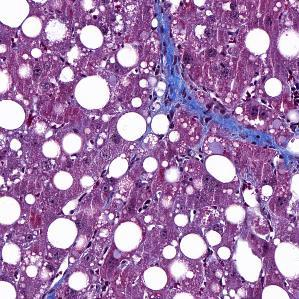fibrosis: (154, 21, 203, 113), (219, 108, 289, 156)
